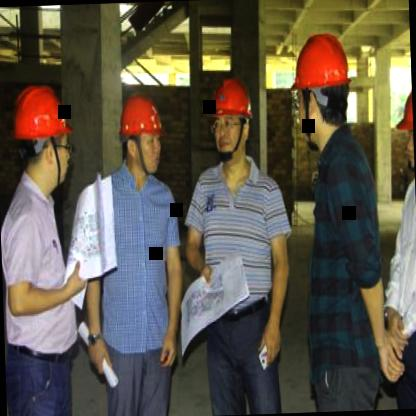helmet: (288, 27, 356, 150), (8, 80, 76, 189), (204, 74, 258, 164), (118, 94, 168, 176), (397, 78, 415, 175)
